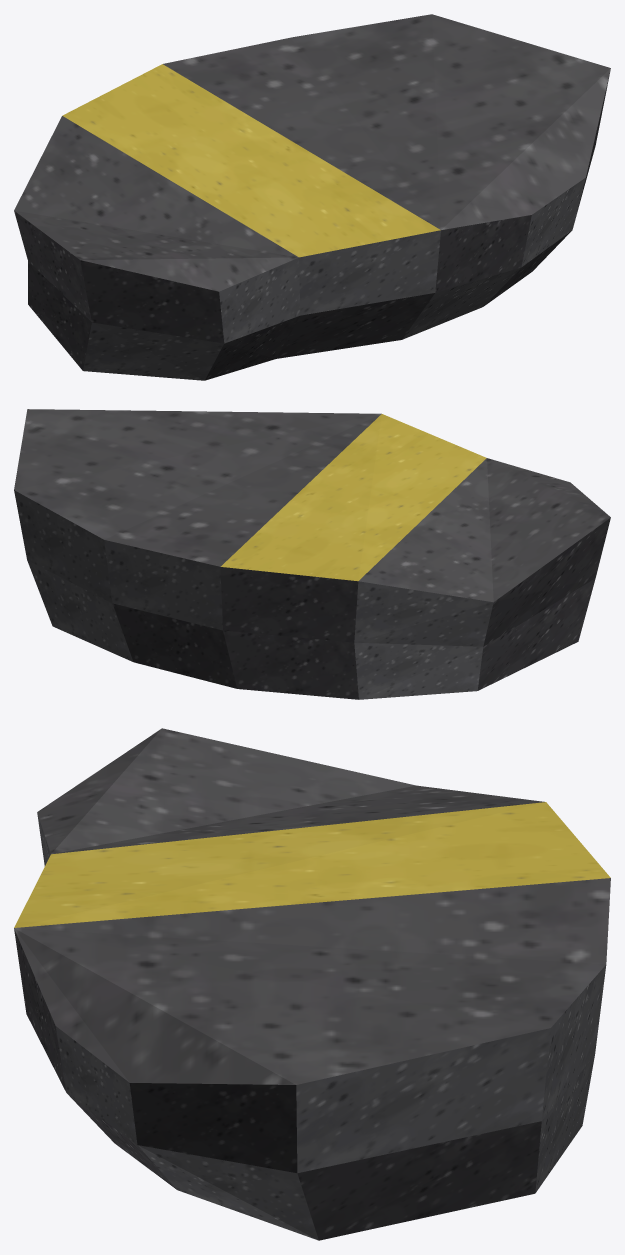
File: debris_asphalt_stripe.glb
The picture shows the model from 3 angles, top to bottom: view 1: azimuth 30°, elevation 25°; view 2: azimuth 150°, elevation 25°; view 3: azimuth 270°, elevation 25°; orthographic projection. The views are drawn at different scales.
Visible parts, largest first — view 1: Asphalt and Parking Stripe; view 2: Asphalt and Parking Stripe; view 3: Asphalt and Parking Stripe.
Boxes of the visible parts, left/top/right/bottom form: Asphalt and Parking Stripe: left=14, top=14, right=610, bottom=380; Asphalt and Parking Stripe: left=14, top=409, right=610, bottom=699; Asphalt and Parking Stripe: left=14, top=728, right=610, bottom=1240.
Size of the model in its own units: 0.191 by 0.045 by 0.129.
Materials: 1 (1 with a texture image).
